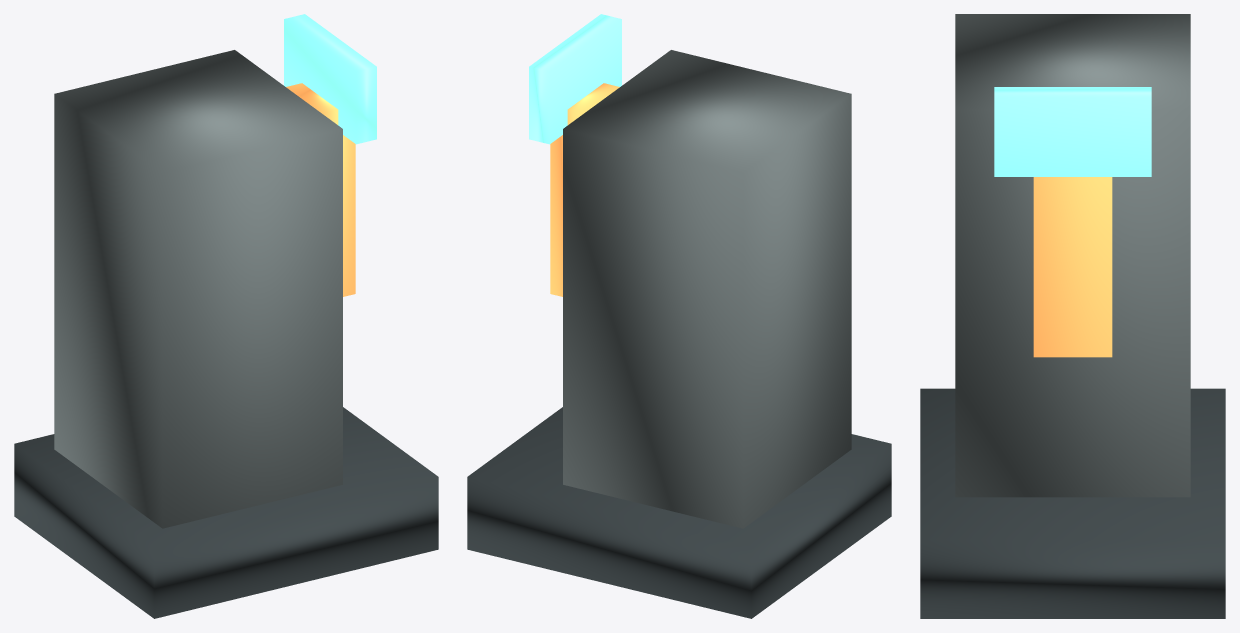
The model's file is spin-habitat-spin-bus-isolator-lod2.glb.
3 views of the same model, side by side, from view 1: azimuth 30°, elevation 25°; view 2: azimuth 150°, elevation 25°; view 3: azimuth 270°, elevation 25° (orthographic). The views are drawn at different scales.
Parts seen in each view (by area): view 1: spin-habitat-spin-bus-isolator-housing, spin-habitat-spin-bus-isolator-base, spin-habitat-interactable-status, spin-habitat-spin-bus-isolator-knife; view 2: spin-habitat-spin-bus-isolator-housing, spin-habitat-spin-bus-isolator-base, spin-habitat-interactable-status, spin-habitat-spin-bus-isolator-knife; view 3: spin-habitat-spin-bus-isolator-housing, spin-habitat-spin-bus-isolator-base, spin-habitat-spin-bus-isolator-knife, spin-habitat-interactable-status.
Boxes of the visible parts, x1,y1,x2,y2 form: spin-habitat-spin-bus-isolator-housing: (54, 50, 342, 528); spin-habitat-spin-bus-isolator-base: (14, 407, 438, 618); spin-habitat-interactable-status: (284, 14, 376, 144); spin-habitat-spin-bus-isolator-knife: (286, 83, 355, 296); spin-habitat-spin-bus-isolator-housing: (563, 50, 851, 528); spin-habitat-spin-bus-isolator-base: (467, 407, 891, 618); spin-habitat-interactable-status: (529, 14, 621, 144); spin-habitat-spin-bus-isolator-knife: (550, 83, 619, 296); spin-habitat-spin-bus-isolator-housing: (955, 14, 1190, 497); spin-habitat-spin-bus-isolator-base: (920, 388, 1225, 618); spin-habitat-spin-bus-isolator-knife: (1033, 177, 1112, 357); spin-habitat-interactable-status: (994, 87, 1151, 176).
Size of the model in its own units: 0.82 by 1.28 by 0.7.
